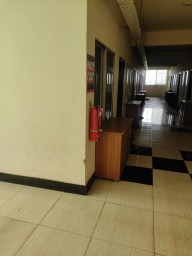fire_extinguisher: (79, 118, 107, 138)
